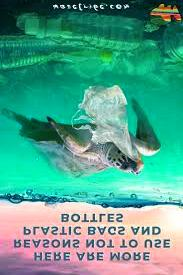Trash: (84, 79, 144, 159)
